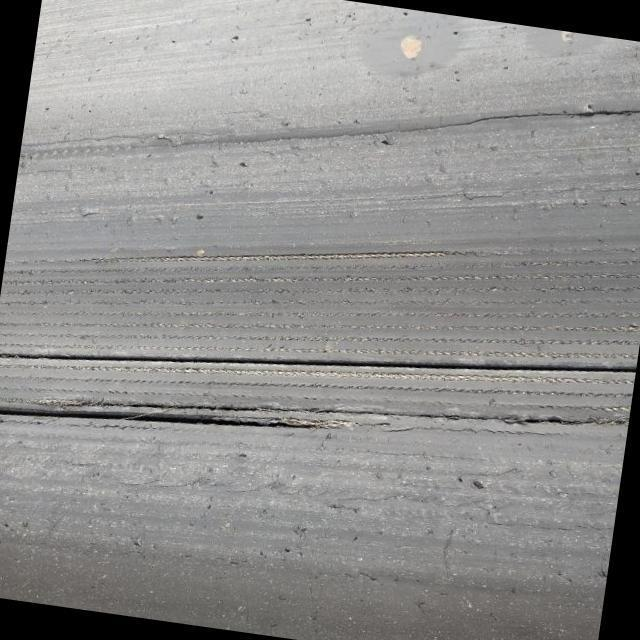Tear: (0, 343, 639, 381), (49, 396, 633, 433), (0, 403, 329, 434), (460, 100, 639, 130)
Wear: (0, 240, 640, 353)
